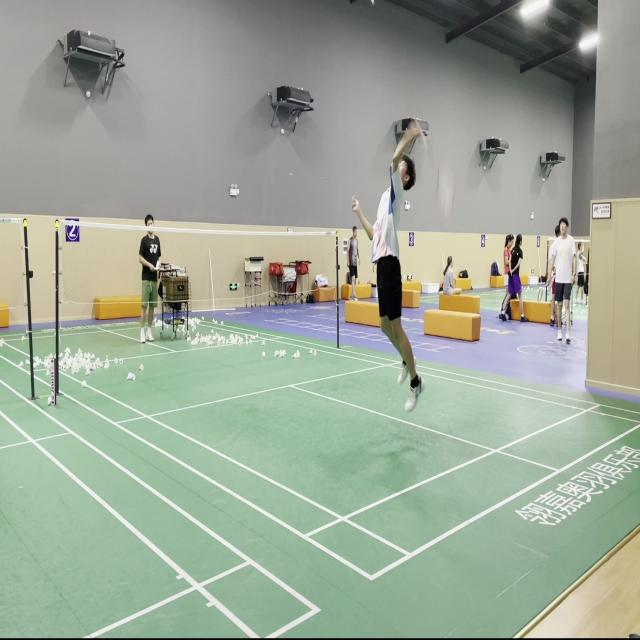shuttlecock: (368, 0, 378, 6)
